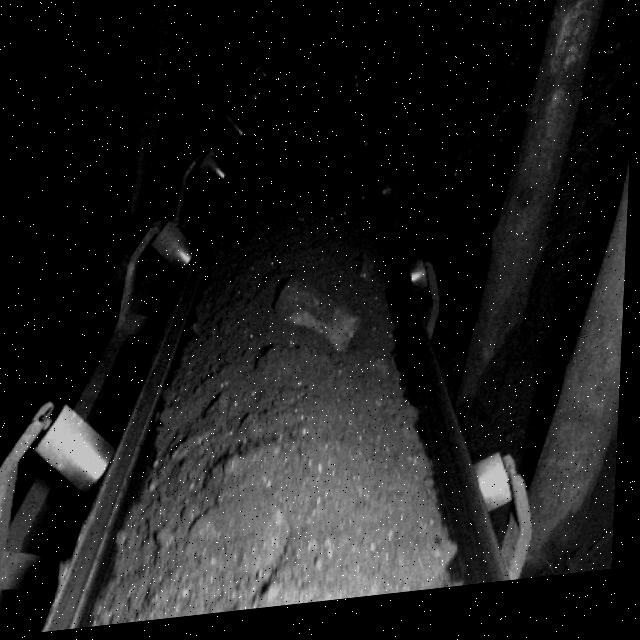large_sized_coal: (279, 279, 369, 360)
